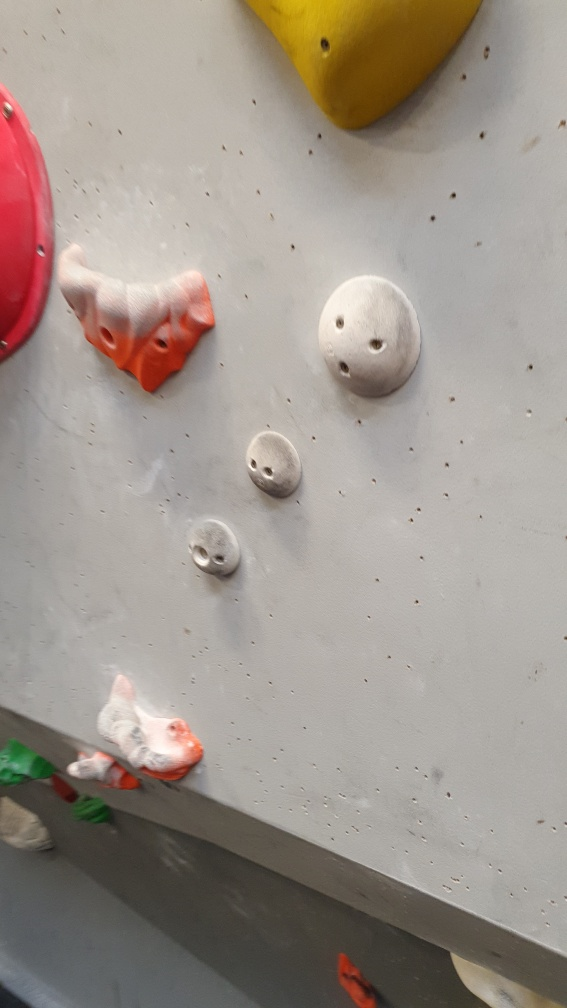Jug: (56, 242, 217, 397), (96, 675, 204, 784)
Sloper: (315, 275, 423, 401), (245, 428, 305, 499), (185, 516, 241, 578)
